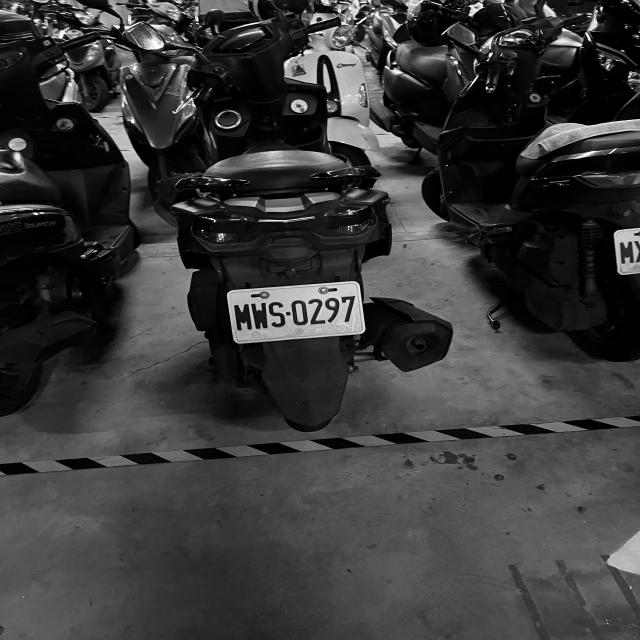-: (285, 310, 291, 316)
0: (291, 299, 309, 325)
2: (308, 299, 326, 325)
7: (341, 293, 355, 323)
9: (326, 296, 340, 324)
M: (234, 303, 252, 330), (620, 242, 636, 264)
S: (268, 302, 286, 328)
W: (251, 303, 269, 329)
plate: (224, 288, 366, 334)
